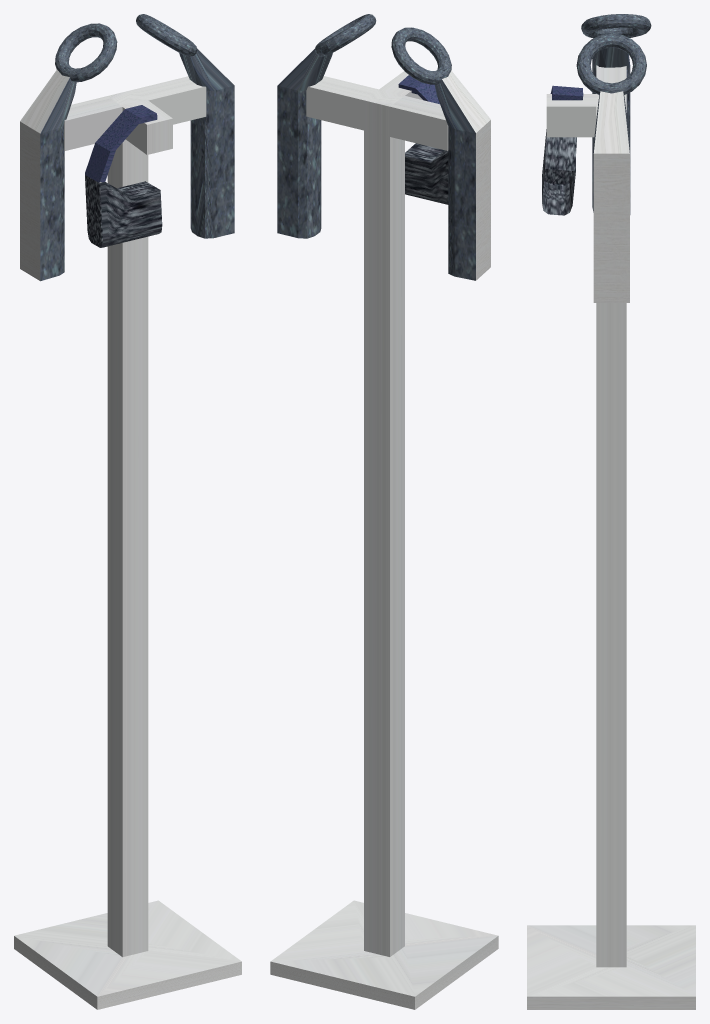
File: VRStandV1.gltf
3 views of the same model, side by side, from view 1: azimuth 30°, elevation 25°; view 2: azimuth 150°, elevation 25°; view 3: azimuth 270°, elevation 25° (orthographic).
Parts seen in each view (by area): view 1: Cube, Cube.004, Cube.003, Cube.002; view 2: Cube, Cube.004, Cube.003, Cube.002; view 3: Cube, Cube.003, Cube.002, Cube.004.
Boxes of the visible parts, x1,y1,x2,y2 form: Cube: [14, 76, 241, 1009]; Cube.004: [20, 23, 117, 281]; Cube.003: [136, 14, 234, 238]; Cube.002: [85, 105, 162, 247]; Cube: [270, 71, 498, 1009]; Cube.004: [391, 27, 490, 280]; Cube.003: [277, 14, 376, 238]; Cube.002: [398, 75, 448, 204]; Cube: [527, 65, 695, 1009]; Cube.003: [576, 33, 646, 302]; Cube.002: [542, 85, 583, 215]; Cube.004: [581, 14, 651, 214].
Size of the model in its own units: 0.6839 by 3.1 by 0.5.
Materials: 2 (2 with a texture image).
